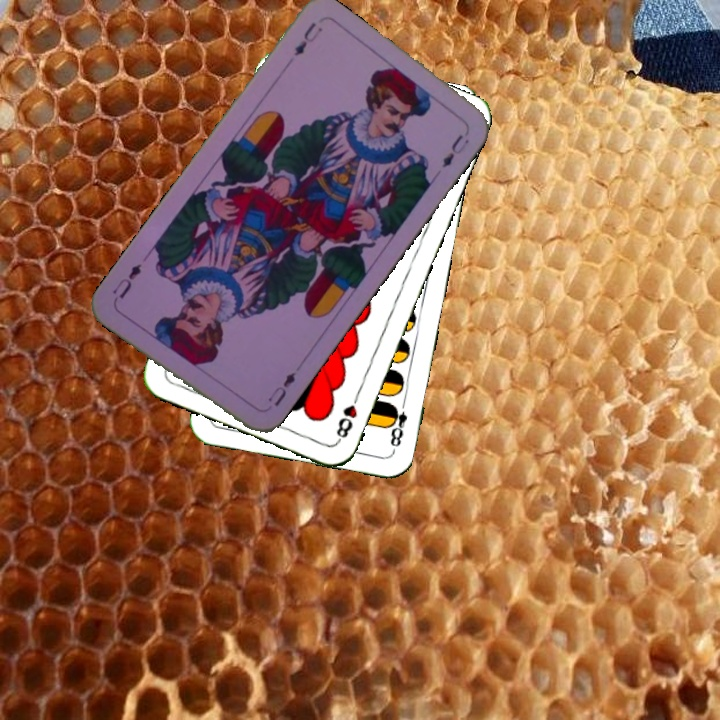E8: (384, 394, 410, 453)
EU: (263, 367, 299, 409), (290, 18, 326, 59)
H8: (332, 388, 362, 445)
